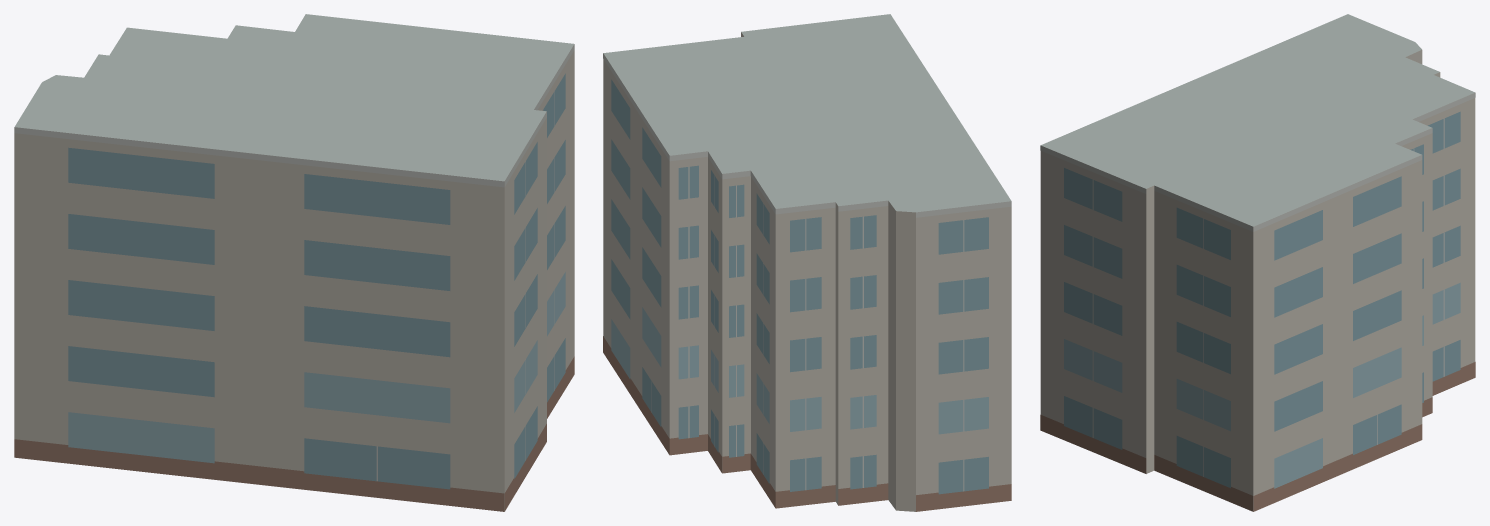
Rendered from survey-upis-32661529.glb.
3 views of the same model, side by side, from view 1: azimuth 30°, elevation 25°; view 2: azimuth 150°, elevation 25°; view 3: azimuth 270°, elevation 25° (orthographic). The views are drawn at different scales.
Parts seen in each view (by area): view 1: survey-upis-32661529.tmp; view 2: survey-upis-32661529.tmp; view 3: survey-upis-32661529.tmp.
Part boxes in pixels (box(x1,y1,x2,y2)): survey-upis-32661529.tmp: box(14, 14, 574, 511); survey-upis-32661529.tmp: box(603, 14, 1011, 511); survey-upis-32661529.tmp: box(1040, 14, 1475, 511).
Bounding box in the file's own units: 21.37 × 13.35 × 18.47.
